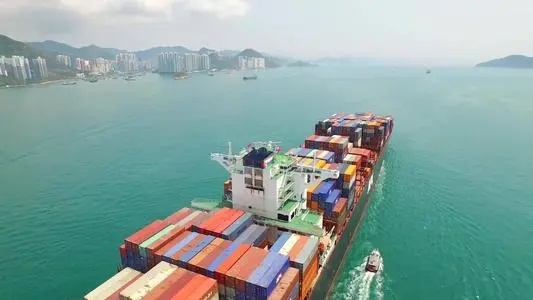Cargoship: (76, 111, 394, 299)
otherboat: (362, 248, 385, 273)
